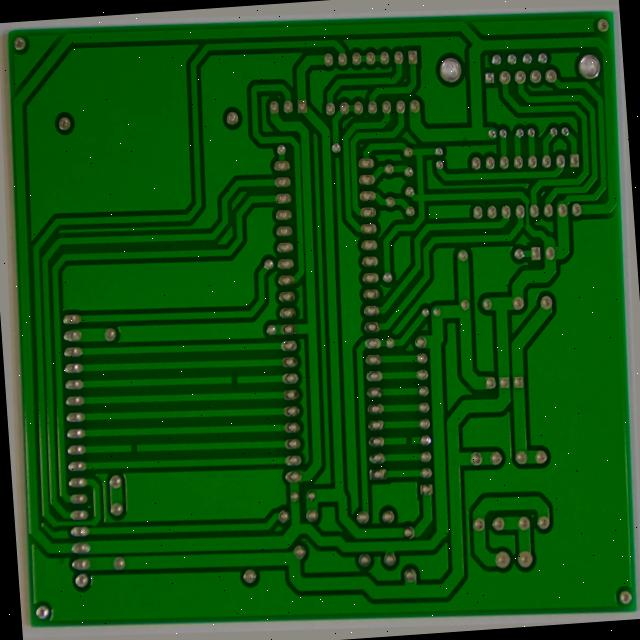open_circuit: (225, 375, 241, 395), (122, 451, 139, 469), (407, 435, 420, 448)
